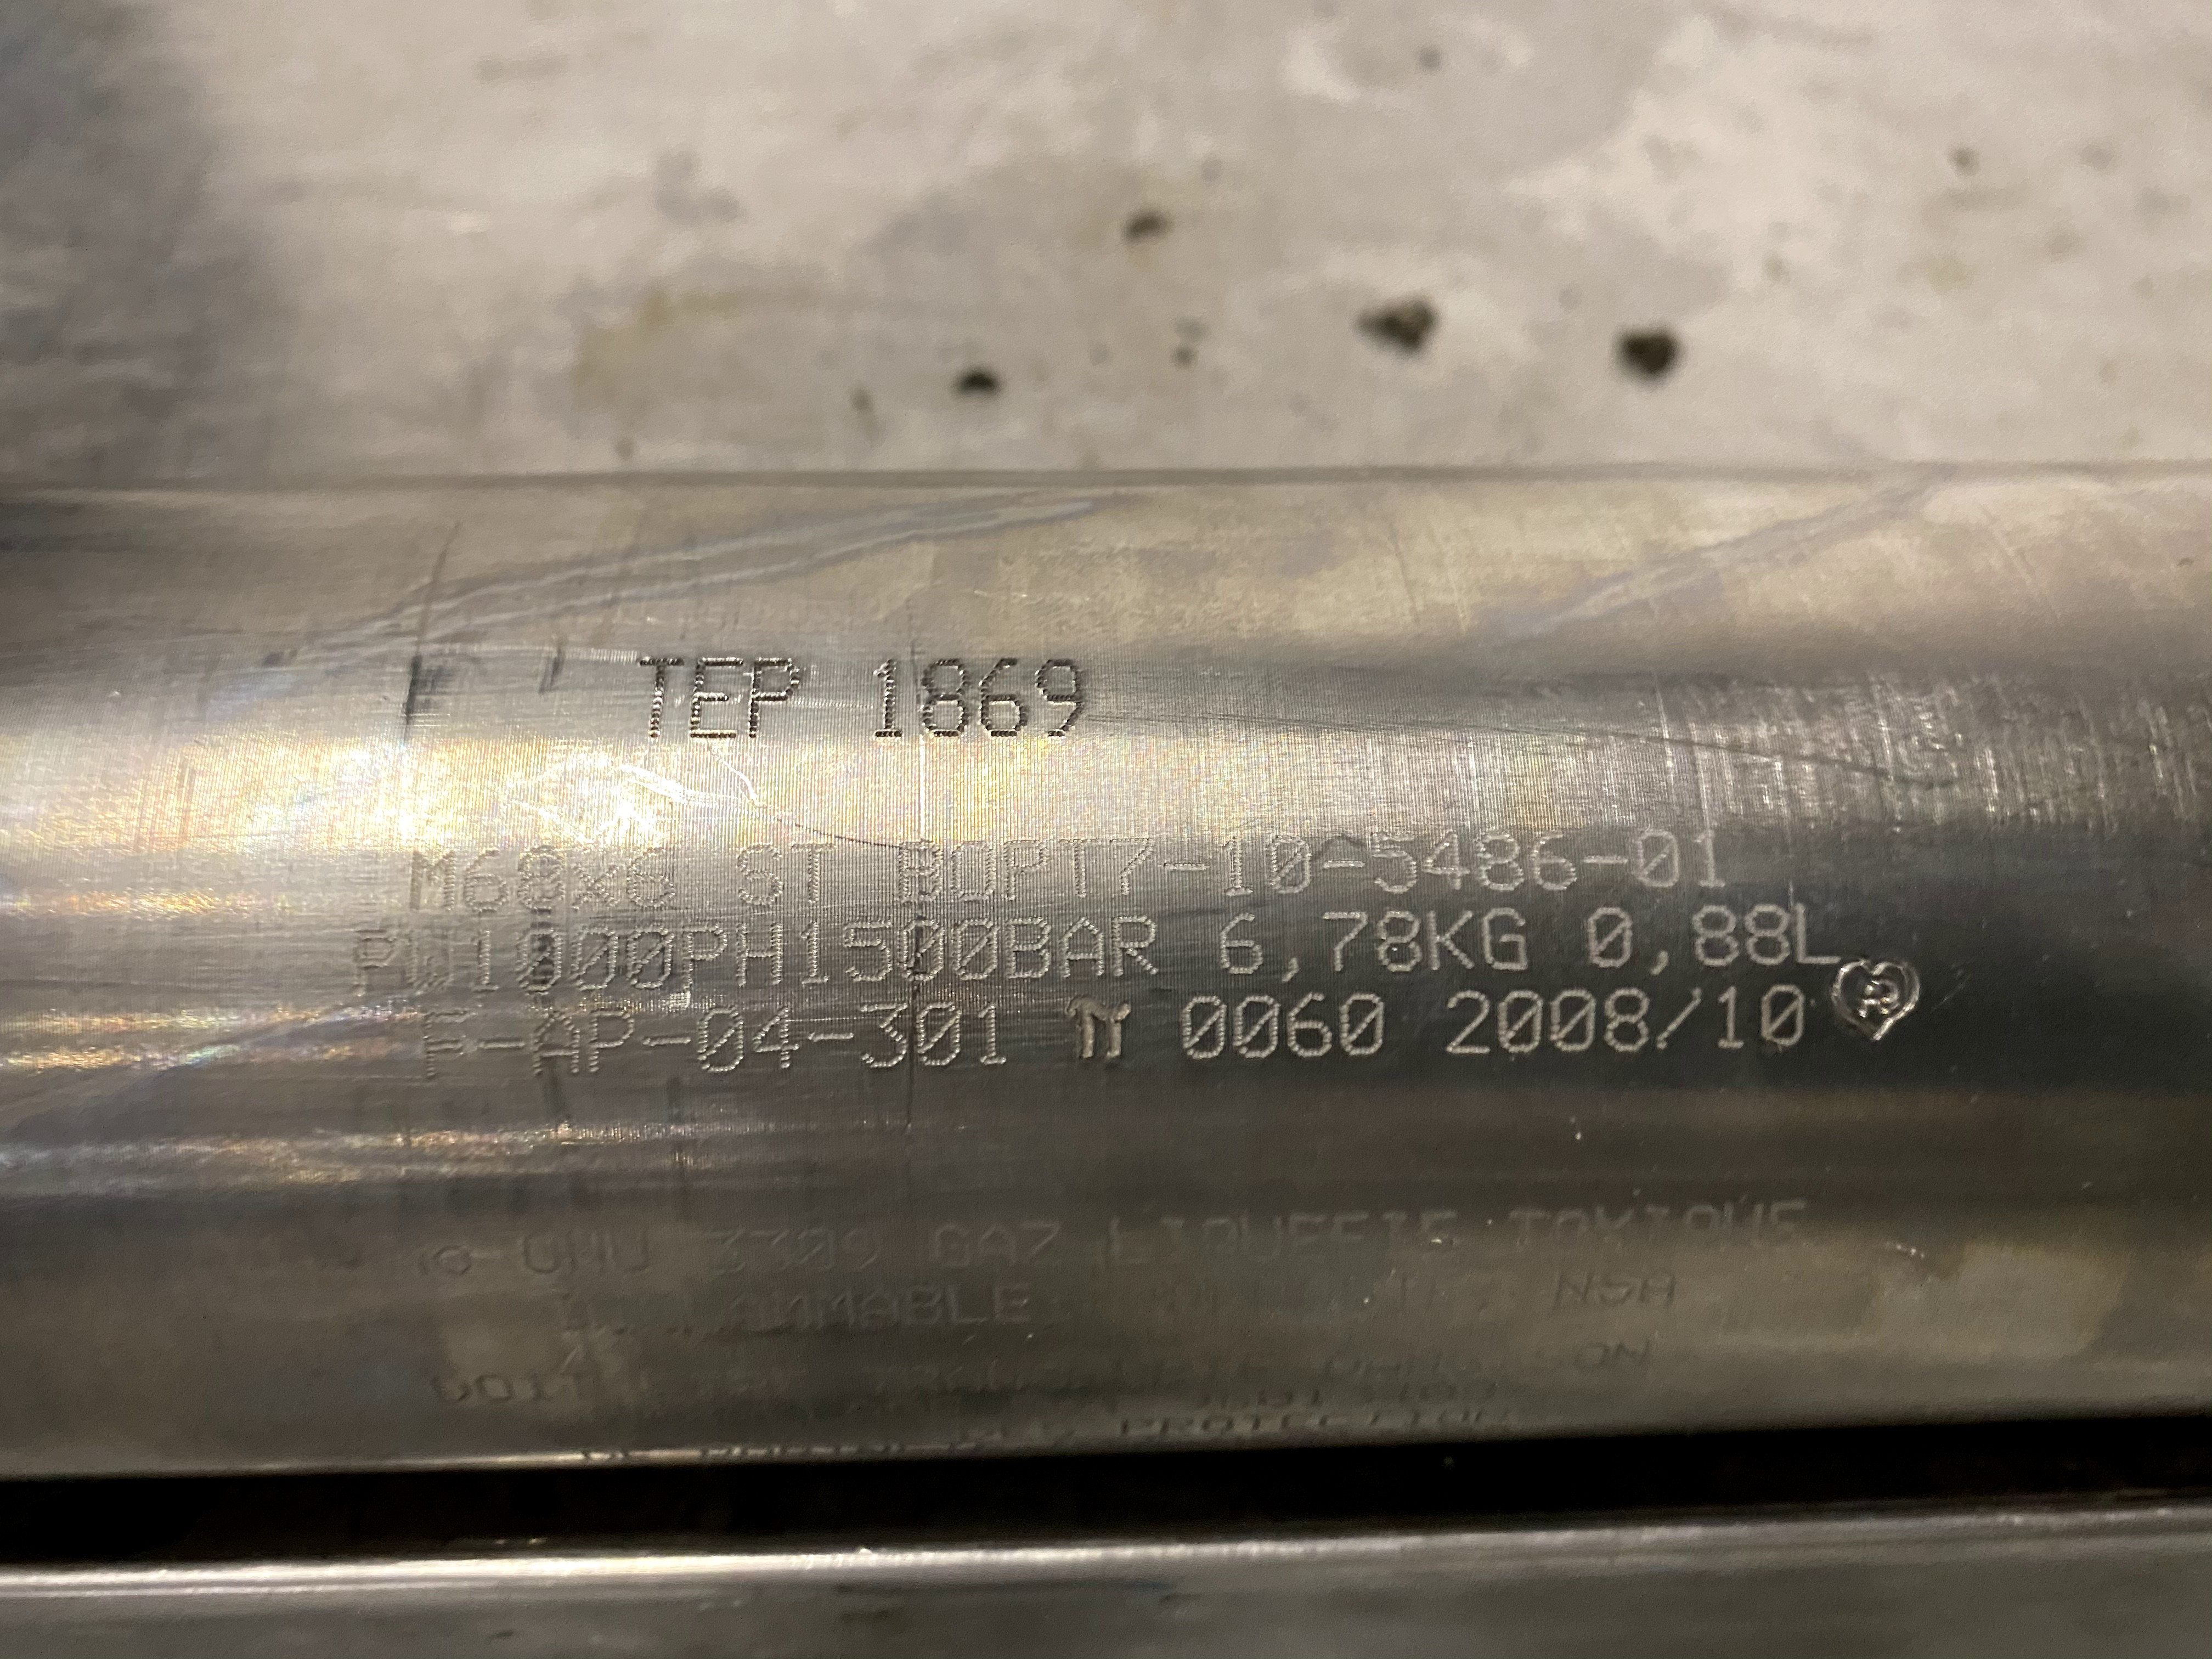character: (1057, 992, 1137, 1072), (629, 641, 690, 746), (683, 647, 744, 746), (742, 647, 805, 742), (914, 648, 970, 748), (1036, 648, 1096, 741), (855, 653, 911, 749), (1789, 896, 1853, 976), (855, 997, 916, 1080), (1475, 896, 1536, 976), (1435, 985, 1498, 1060), (1359, 819, 1421, 894), (402, 842, 465, 915), (1545, 981, 1599, 1065), (1001, 910, 1057, 990), (784, 831, 843, 906), (1750, 978, 1810, 1053), (977, 652, 1026, 742), (589, 1002, 644, 1080), (1176, 993, 1231, 1072), (944, 836, 1001, 911), (1629, 817, 1686, 892), (1339, 985, 1392, 1066), (695, 1006, 751, 1082), (1475, 823, 1531, 899), (1061, 910, 1115, 988), (1599, 981, 1653, 1060), (509, 838, 568, 910), (404, 918, 462, 992), (526, 1007, 583, 1080), (1522, 821, 1580, 894), (1233, 990, 1285, 1070), (1289, 986, 1338, 1072), (894, 831, 948, 908), (1588, 901, 1648, 971), (629, 835, 686, 906), (732, 920, 789, 992), (1494, 985, 1547, 1063), (1113, 908, 1169, 981), (416, 1007, 470, 1082), (752, 1000, 803, 1079), (1655, 985, 1709, 1058), (1211, 908, 1263, 983), (733, 840, 789, 910), (897, 915, 948, 992), (920, 997, 970, 1072), (1374, 904, 1428, 974), (625, 920, 674, 997), (1684, 904, 1742, 969), (519, 924, 566, 1002), (1423, 904, 1477, 972), (845, 913, 894, 988), (1108, 826, 1162, 892), (1428, 824, 1480, 892), (463, 840, 510, 915), (1322, 908, 1367, 985), (1055, 835, 1106, 903), (1264, 826, 1315, 894), (1742, 901, 1792, 969), (1717, 978, 1756, 1066), (678, 924, 726, 993), (970, 999, 1015, 1073), (956, 917, 1000, 993), (350, 931, 399, 999), (1689, 816, 1730, 896), (564, 857, 622, 913), (573, 917, 617, 990), (1217, 830, 1258, 904), (467, 910, 502, 990), (1007, 835, 1047, 894), (794, 922, 831, 986), (1578, 842, 1632, 875), (1163, 852, 1214, 885), (1322, 850, 1362, 878)
